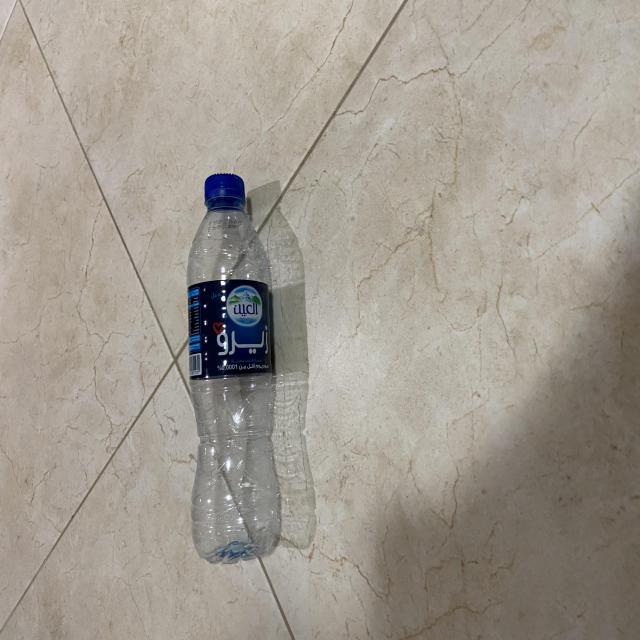plastic: (185, 168, 280, 561)
